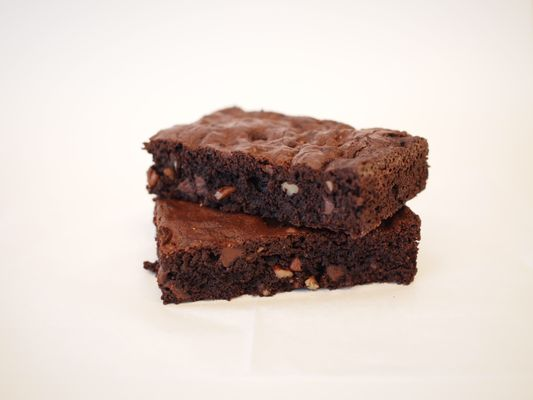sushi: (141, 105, 428, 303)
